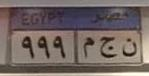9: (20, 35, 36, 61), (36, 33, 51, 60), (52, 33, 67, 59)
jeem: (99, 34, 117, 60)
meem: (81, 33, 96, 59)
noon: (121, 37, 138, 59)
